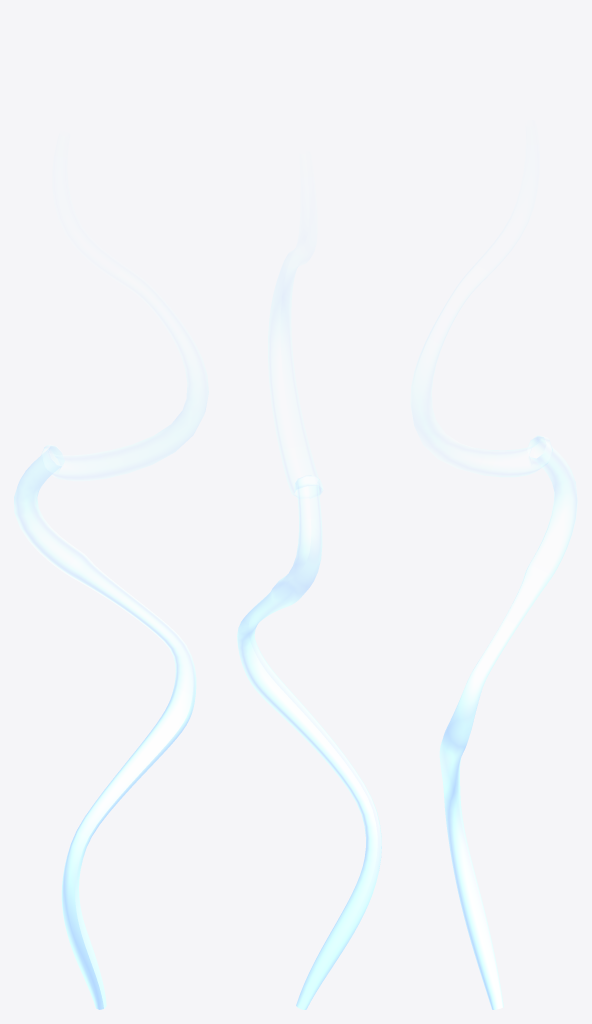
Rendered from strand_b_scenic.glb.
3 views of the same model, side by side, from view 1: azimuth 30°, elevation 25°; view 2: azimuth 150°, elevation 25°; view 3: azimuth 270°, elevation 25° (orthographic).
Size of the model in its own units: 1.3 by 9.03 by 1.37.
